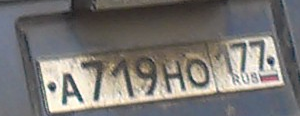character: (78, 59, 109, 103), (132, 53, 161, 98), (109, 57, 137, 102), (159, 59, 188, 96), (183, 56, 212, 92), (59, 71, 87, 108), (247, 38, 271, 73), (228, 39, 251, 74), (212, 43, 234, 79)
